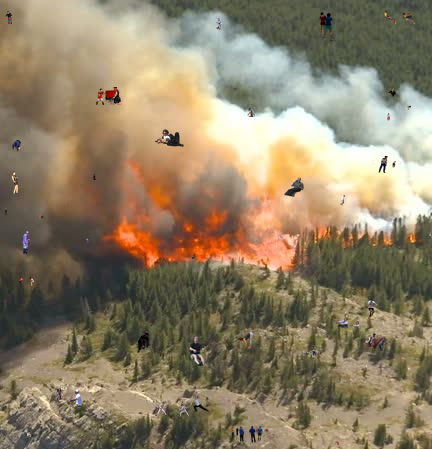Human: (231, 426, 263, 443), (154, 129, 184, 147), (189, 336, 207, 366), (193, 391, 217, 413), (384, 9, 417, 25), (329, 315, 360, 332), (95, 87, 124, 105), (319, 12, 337, 41), (371, 156, 401, 173), (155, 403, 190, 417), (360, 333, 387, 351), (134, 331, 151, 359), (56, 388, 82, 404), (284, 177, 304, 197), (238, 332, 254, 349), (22, 231, 32, 255), (11, 171, 20, 196), (367, 298, 378, 318), (19, 277, 34, 286), (12, 140, 23, 151), (305, 349, 317, 359), (388, 88, 396, 102), (4, 11, 12, 24), (247, 107, 256, 117), (216, 18, 222, 30), (340, 195, 345, 206), (427, 231, 432, 239), (27, 433, 35, 437), (168, 343, 174, 347), (334, 441, 340, 445), (387, 113, 390, 121), (4, 208, 7, 215), (39, 214, 43, 219), (407, 105, 411, 110), (86, 238, 90, 243), (192, 255, 195, 261), (67, 199, 69, 208), (165, 350, 168, 356), (93, 174, 96, 180)
